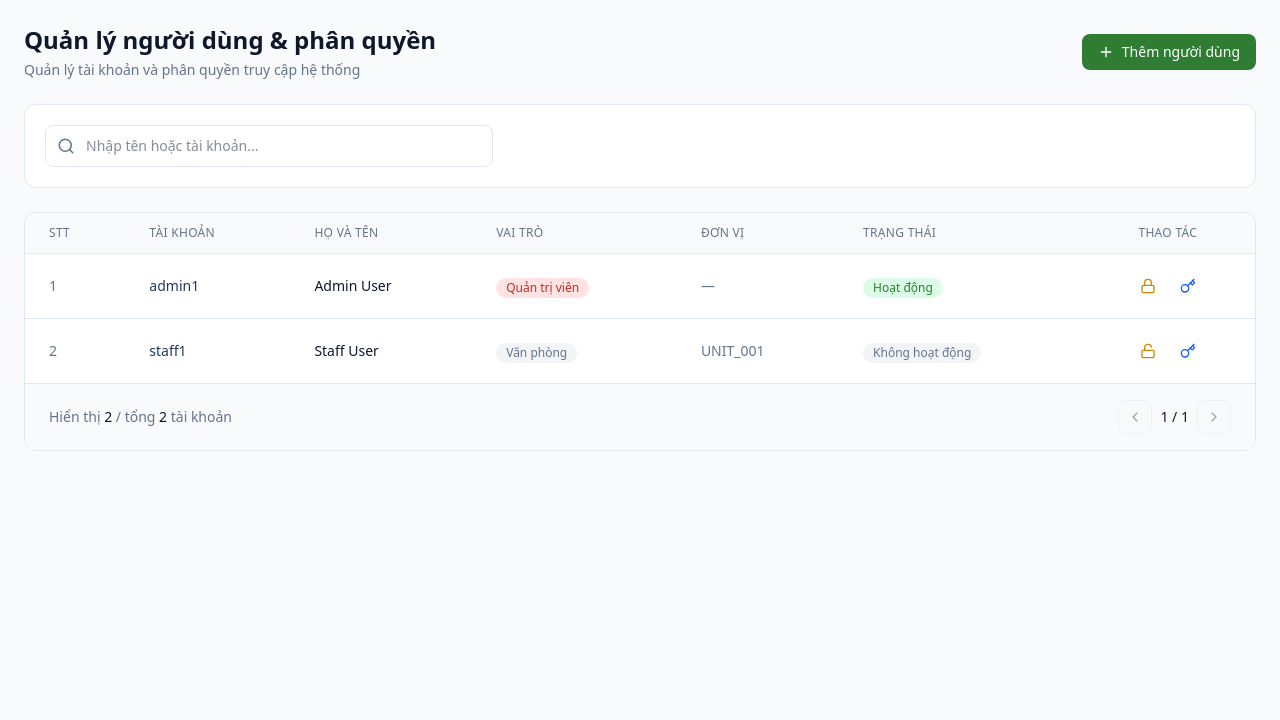
UserManagementPage › closes reset password modal on confirm
Step 1. Click the button with test id "^reset-password-" → [1188, 286], box [1172,270,1204,302]
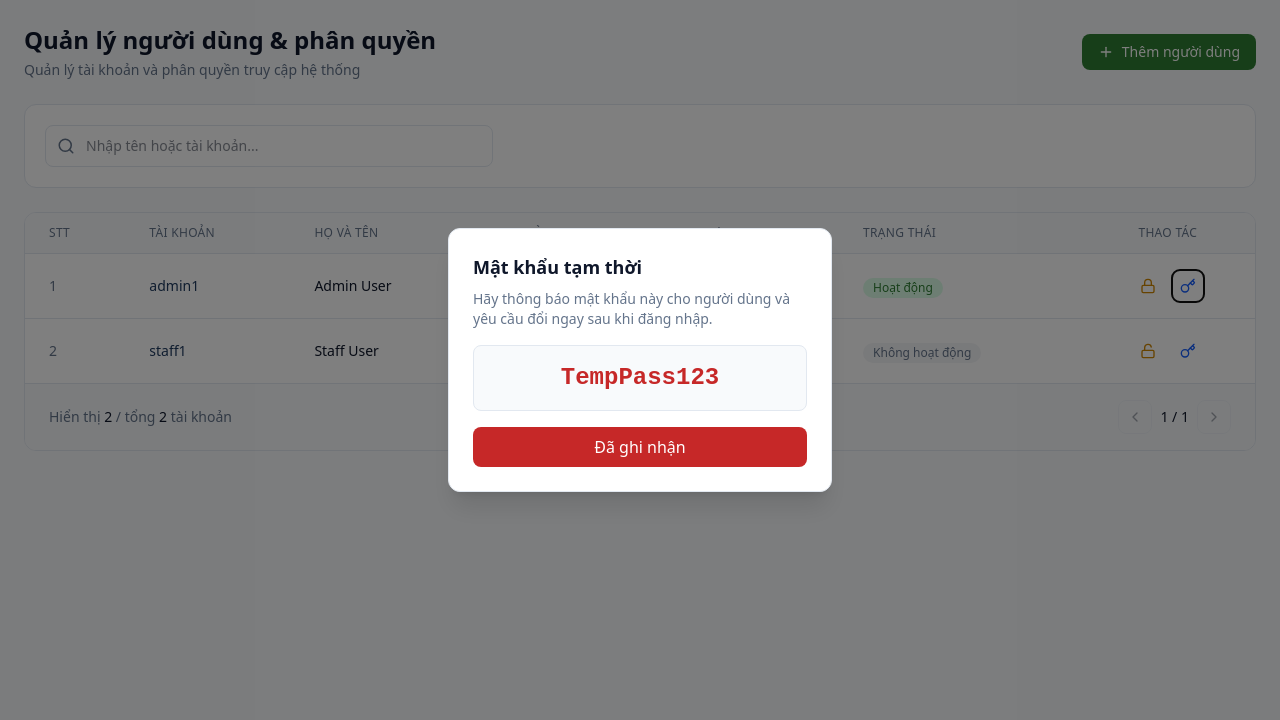
Now the button with test id "close-reset-modal" is shown
Step 2. Click the button with test id "close-reset-modal" → [640, 447], box [473,427,807,467]
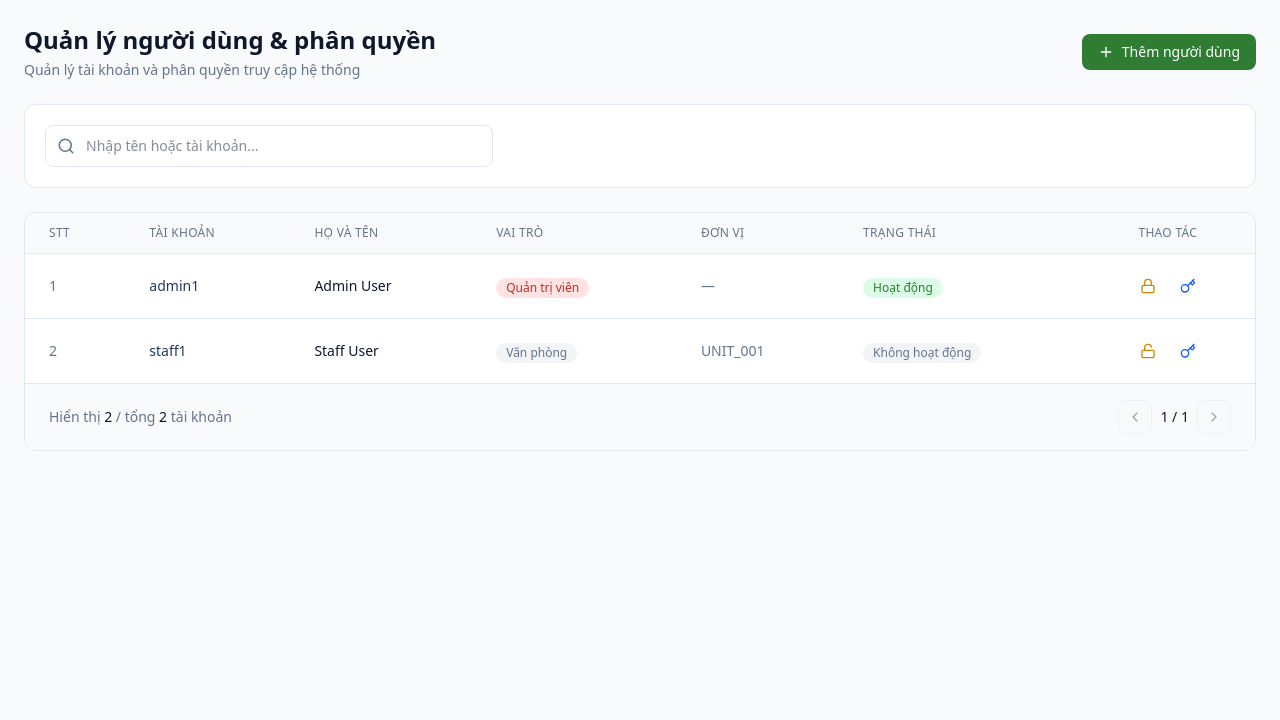
Now the element with test id "reset-password-modal" is gone
